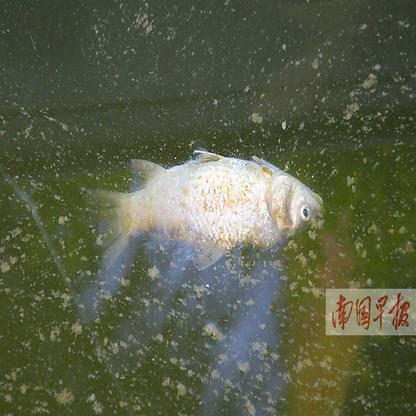deceased fish: (84, 151, 327, 264)
